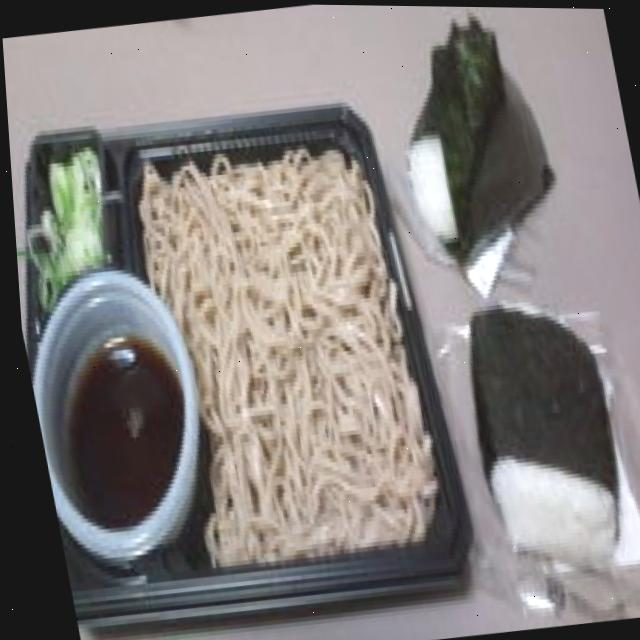米饭主食: (447, 290, 633, 586), (385, 9, 574, 282)
面条主食: (4, 79, 463, 636)
